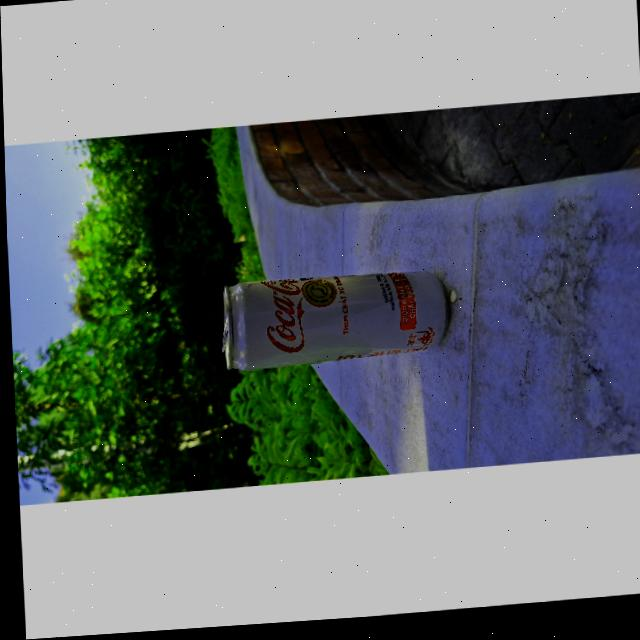Coca Cola Plus: (212, 265, 455, 377)
